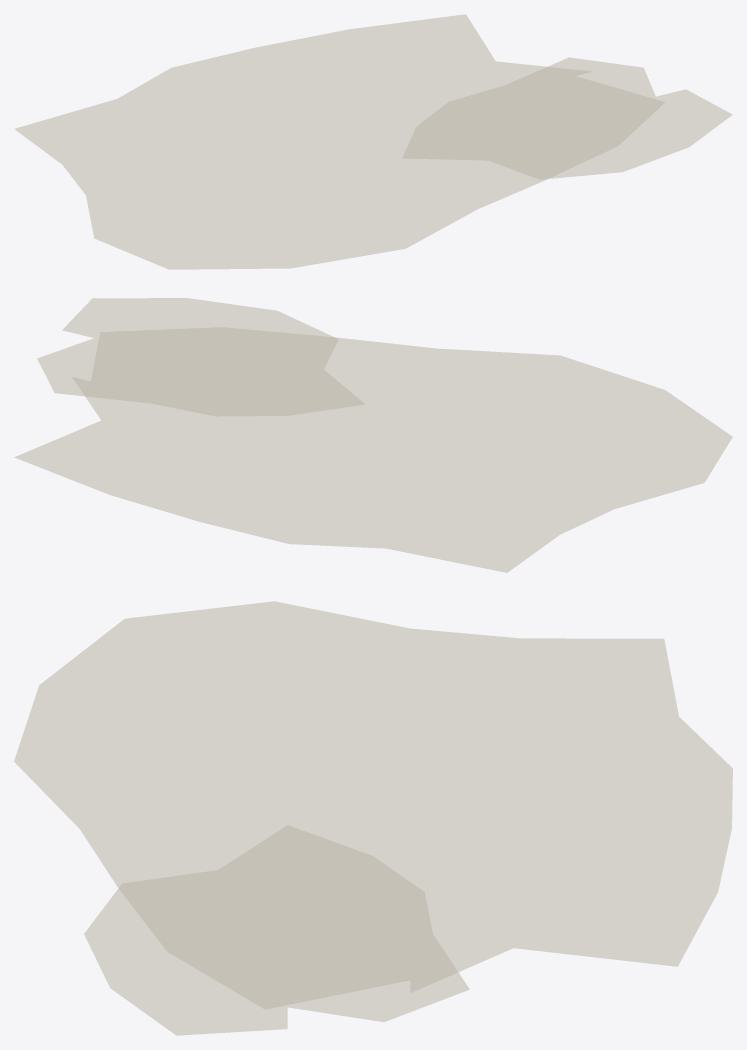
File: BuiXiMang_San.glb
3 views of the same model, one above another, from view 1: azimuth 30°, elevation 25°; view 2: azimuth 150°, elevation 25°; view 3: azimuth 270°, elevation 25° (orthographic). The views are drawn at different scales.
Visible parts, largest first — view 1: quangBui_1, quangBui_2; view 2: quangBui_1, quangBui_2; view 3: quangBui_1, quangBui_2.
Boxes of the visible parts, x1,y1,x2,y2 form: quangBui_1: [14, 14, 664, 269]; quangBui_2: [402, 57, 732, 179]; quangBui_1: [14, 327, 732, 572]; quangBui_2: [37, 298, 364, 416]; quangBui_1: [14, 601, 732, 1008]; quangBui_2: [84, 825, 469, 1035].
Size of the model in its own units: 1.34 by 0.001 by 0.9375.
